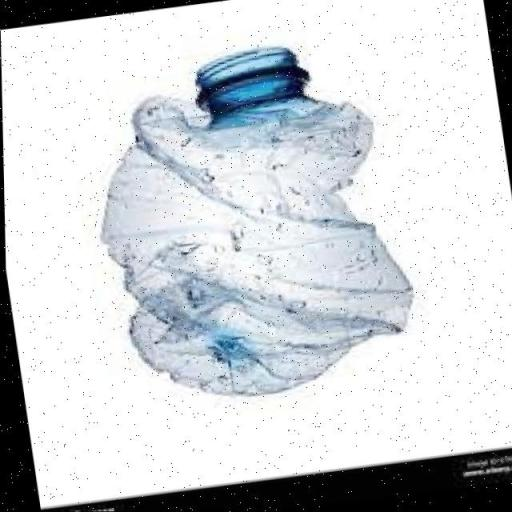plastic: (63, 19, 434, 414)
